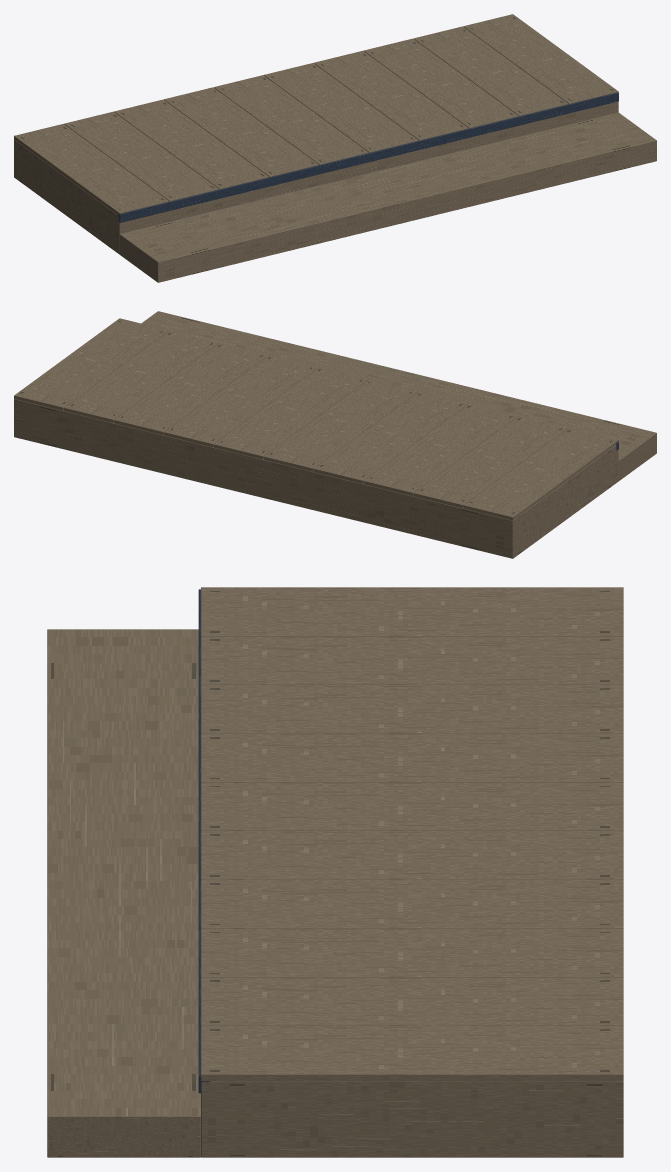
File: house_05_porch_deck.glb
3 renders of one model, top to bottom at view 1: azimuth 30°, elevation 25°; view 2: azimuth 150°, elevation 25°; view 3: azimuth 270°, elevation 25°, orthographic. The views are drawn at different scales.
Visible parts, largest first — view 1: house_05_porch_deck; view 2: house_05_porch_deck; view 3: house_05_porch_deck.
Boxes of the visible parts, x1,y1,x2,y2 form: house_05_porch_deck: [14, 14, 656, 282]; house_05_porch_deck: [14, 311, 656, 558]; house_05_porch_deck: [47, 587, 623, 1157].
Bounding box in the file's own units: 3 × 0.24 × 1.5.
2 materials, 2 textured.
